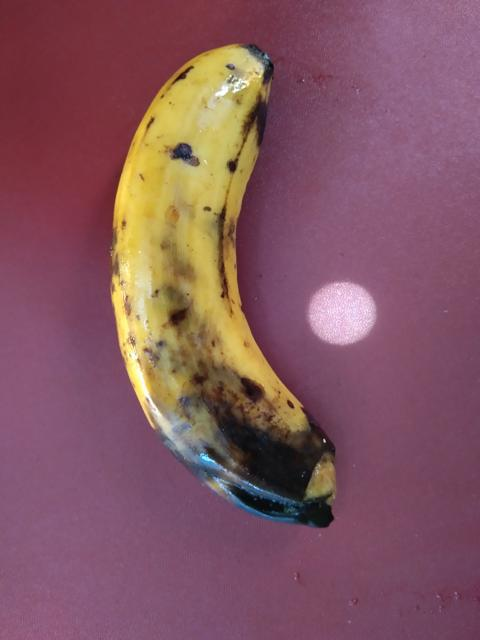rotten: (82, 40, 371, 569)
